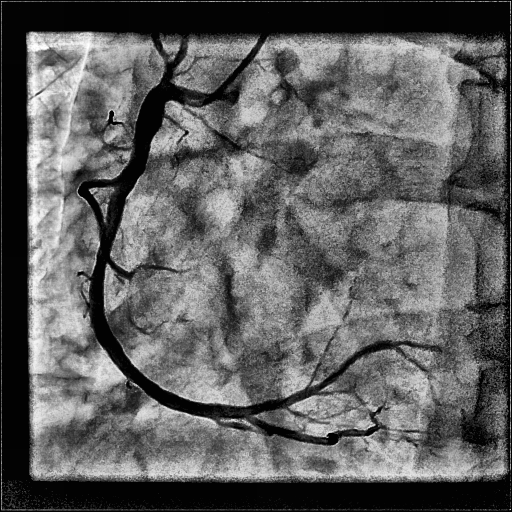pborca: (253, 341, 440, 415)
pda: (247, 405, 392, 445)
rca: (89, 82, 252, 420)
